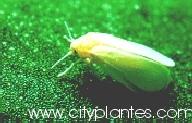whitefly: (49, 19, 177, 95)
